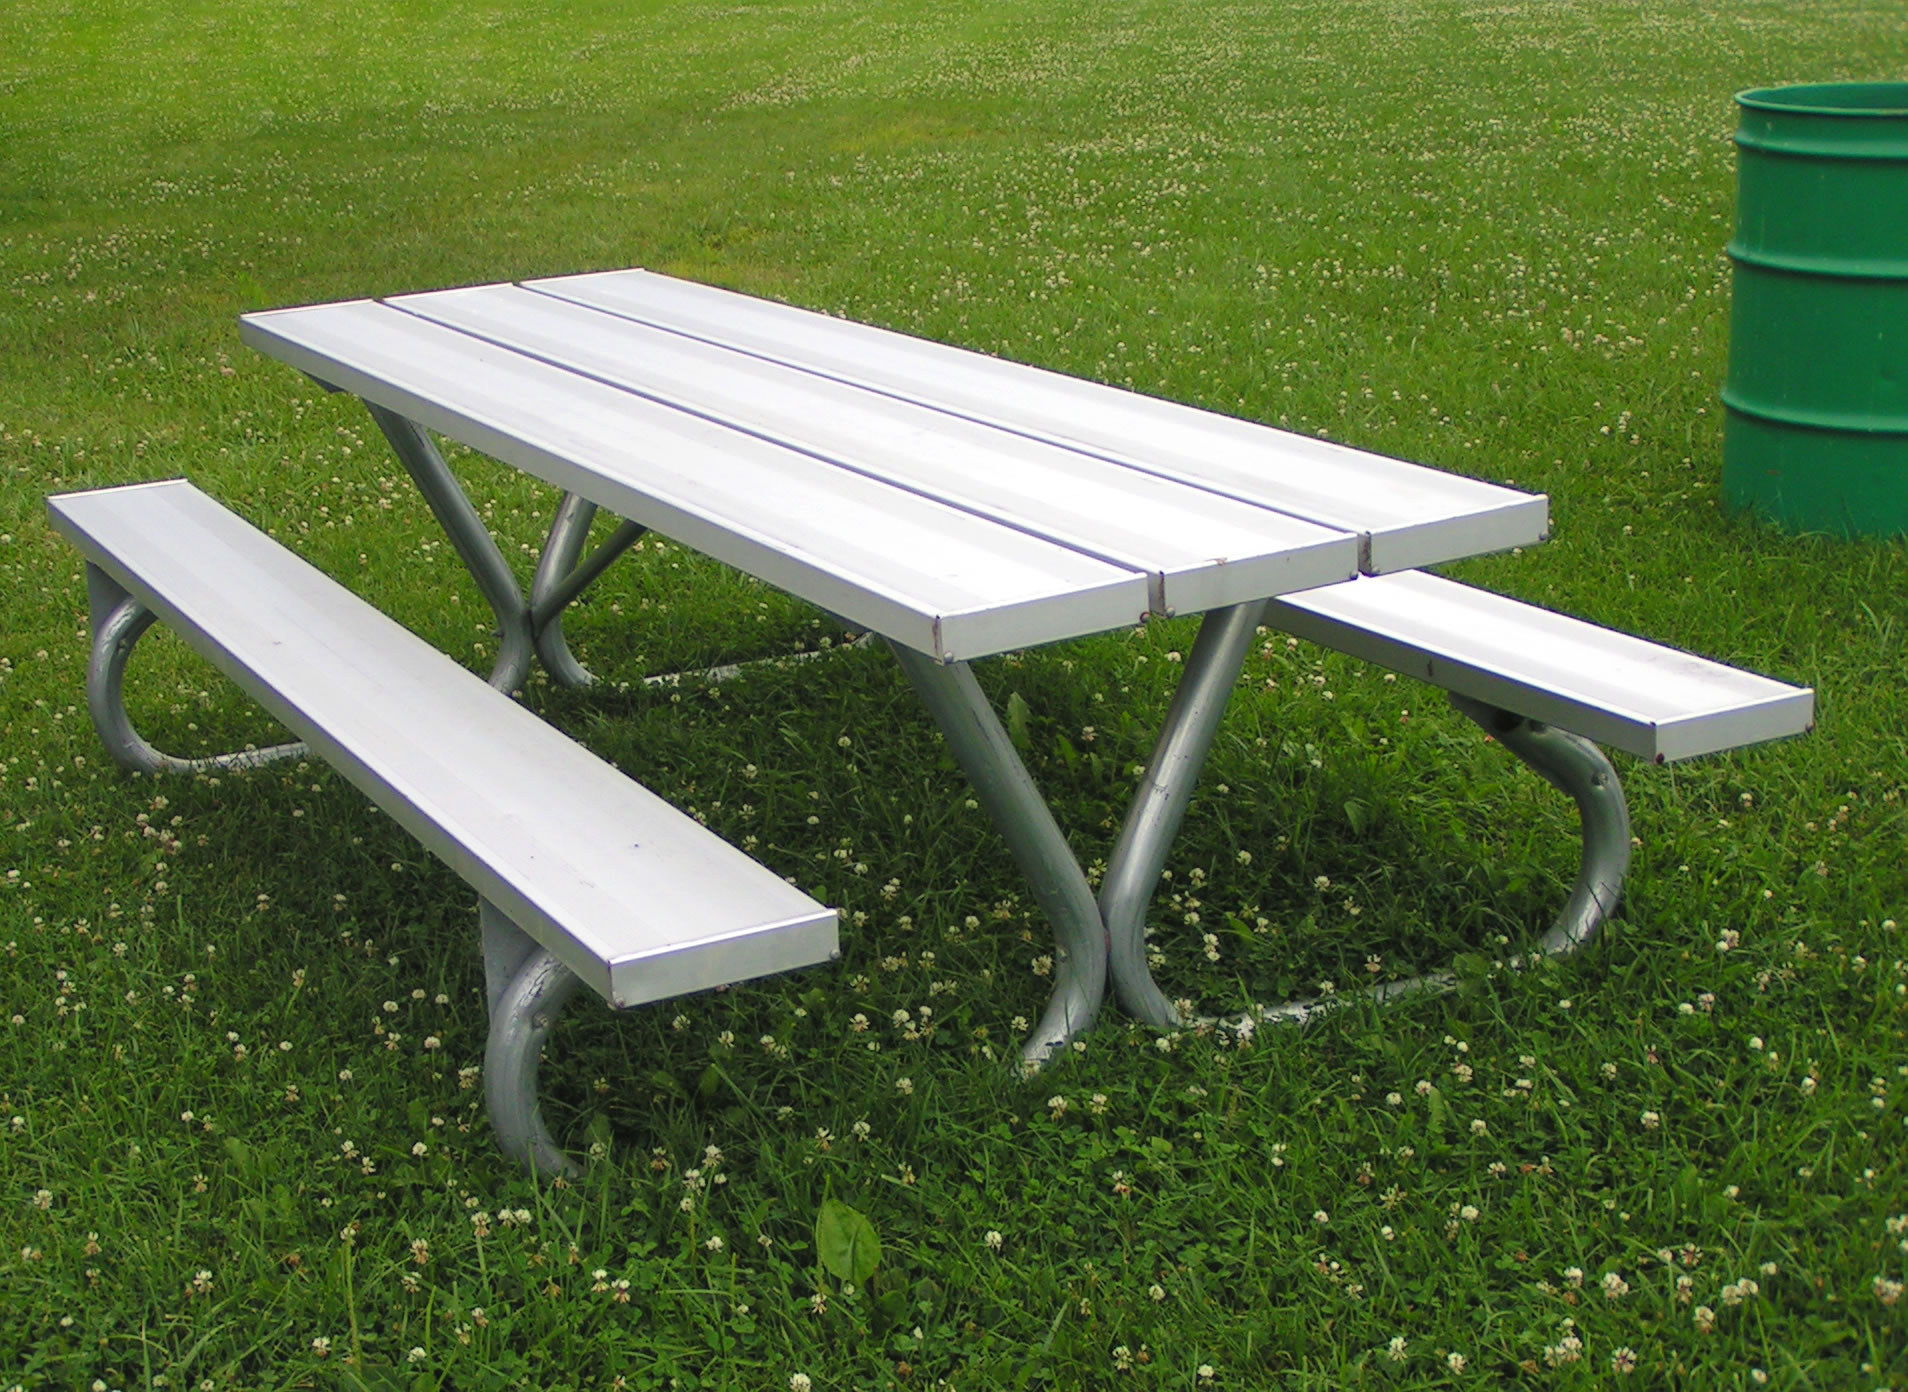obstacle: (44, 272, 1818, 1176)
